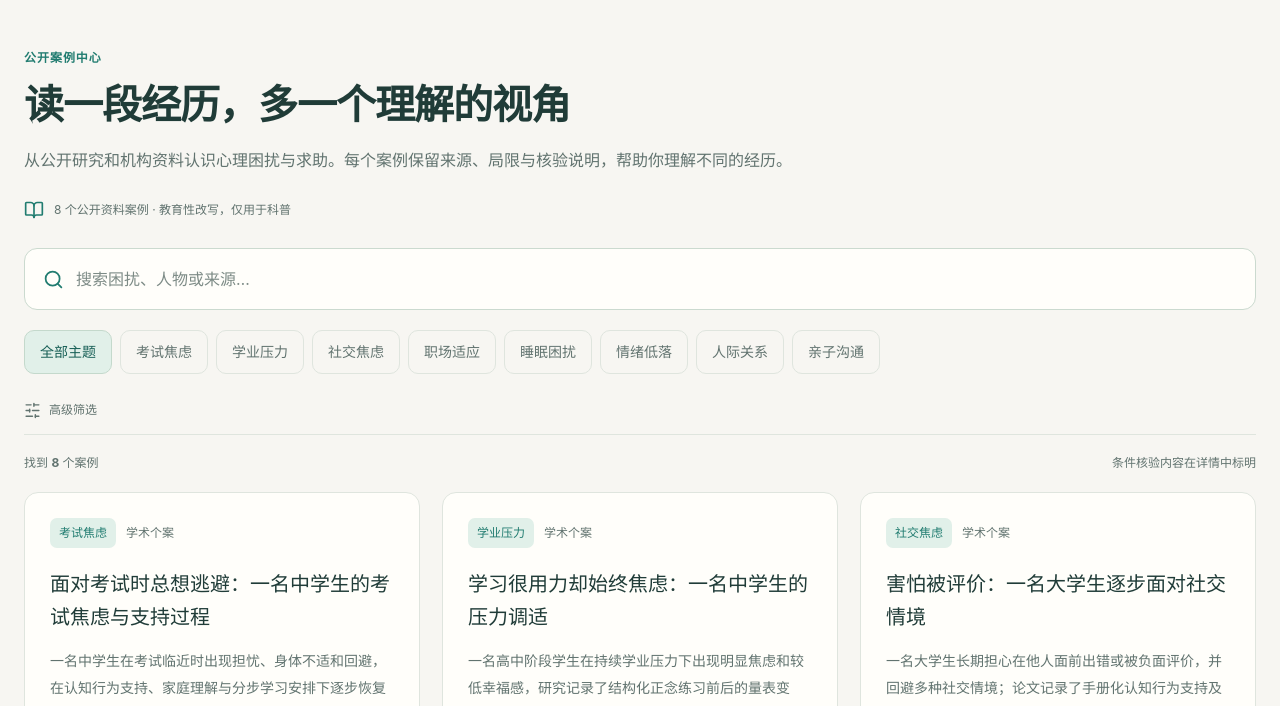
Test: case center pages › renders searchable case cards and an empty state
Step 1. Type "不存在的关键词" into the search field with placeholder "搜索困扰、人物或来源…" → (656, 279), box top-left (76, 257), bottom-right (1237, 301)
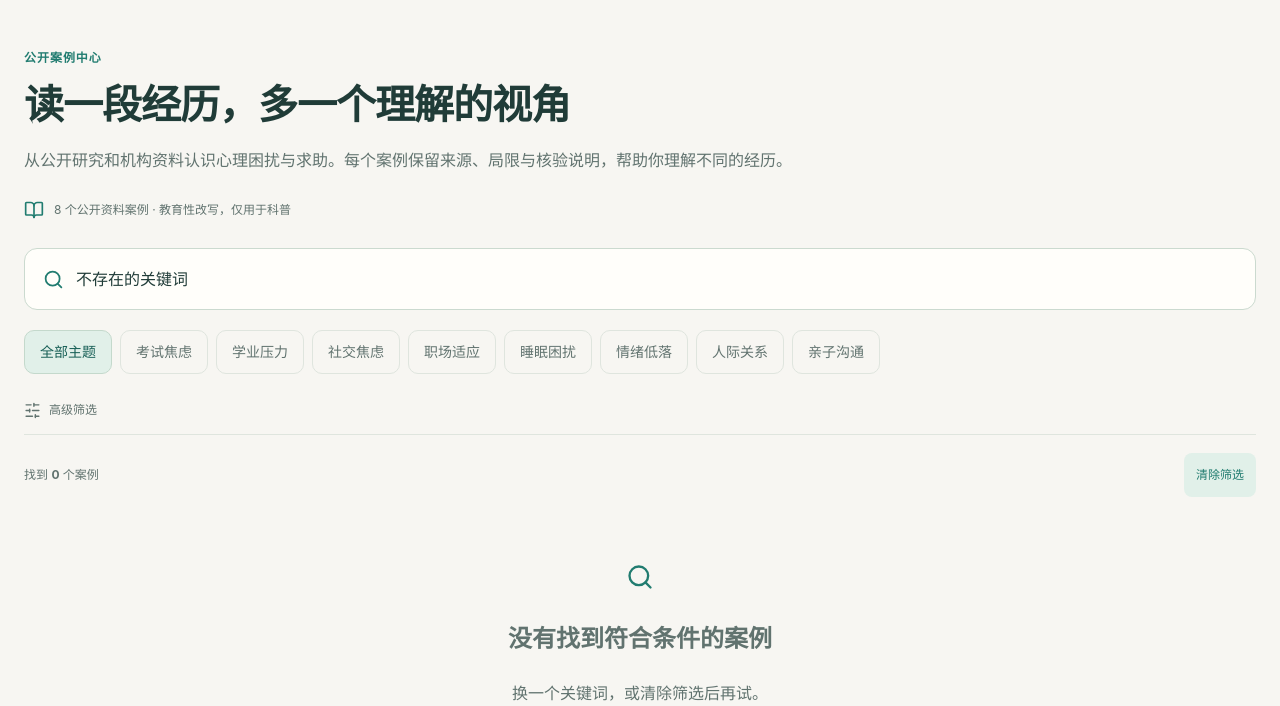
expect the text "没有找到符合条件的案例" is shown: met, box top-left (508, 624), bottom-right (772, 654)
